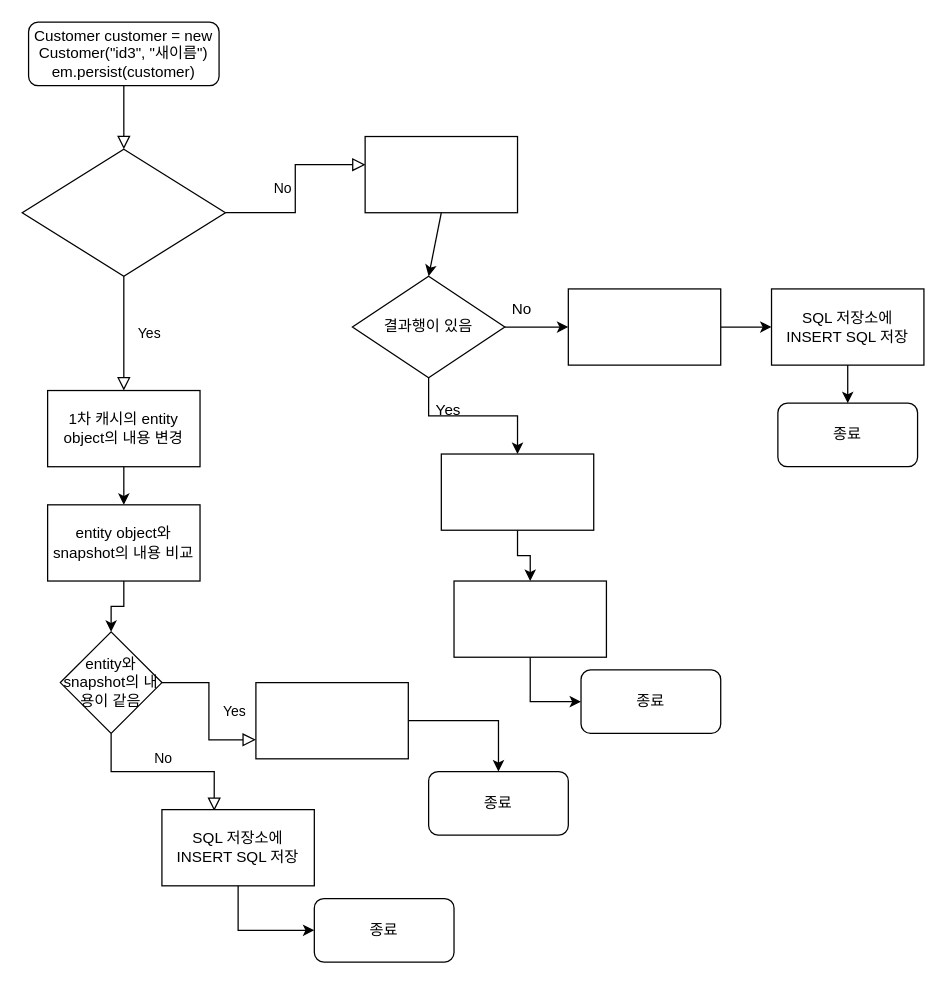
The diagram is 946 pixels wide and 984 high, and some of its shapes have lost their labels. Here are the shapes that lost their labels. From the top down, the centre of each, then its label:
pixel 441 174: SELECT SQL 수행
pixel 123 212: 1차 캐시에 "id3"에 해당하는 entity object 有
pixel 644 326: 1차캐시에 "id3"에 해당하는 entity object 생성
pixel 517 491: (결과행을 바탕으로) 1차캐시에 entity object 생성
pixel 529 618: entity object의 복제본을 snapshot에 추가
pixel 331 720: SQL저장소에 UPDATE SQL 저장
